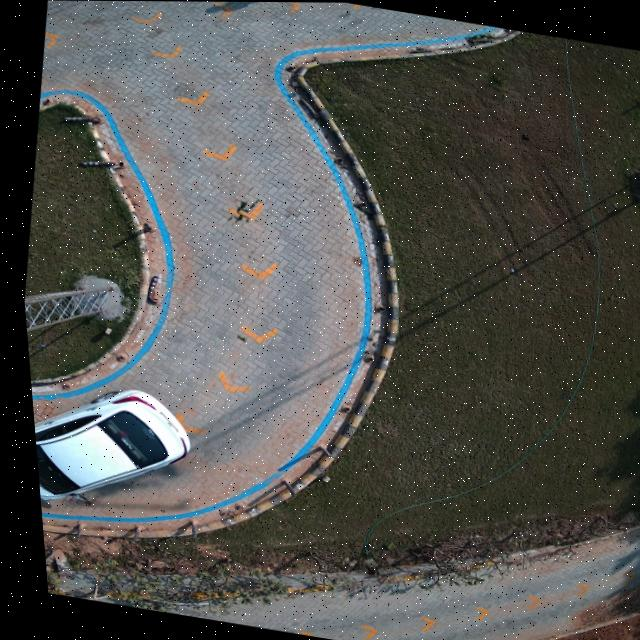car: (27, 389, 182, 502)
